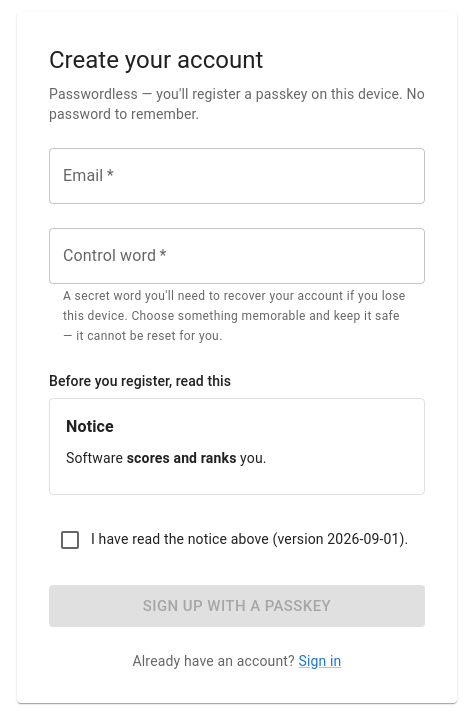
registration shows the transparency notice and will not proceed without it (P1T-183) › keeps signup disabled until the notice is acknowledged
The image size is (475, 722).
In the field labelled "Email *": [237, 176] box 49,148 -> 425,204, type "ada@example.com"
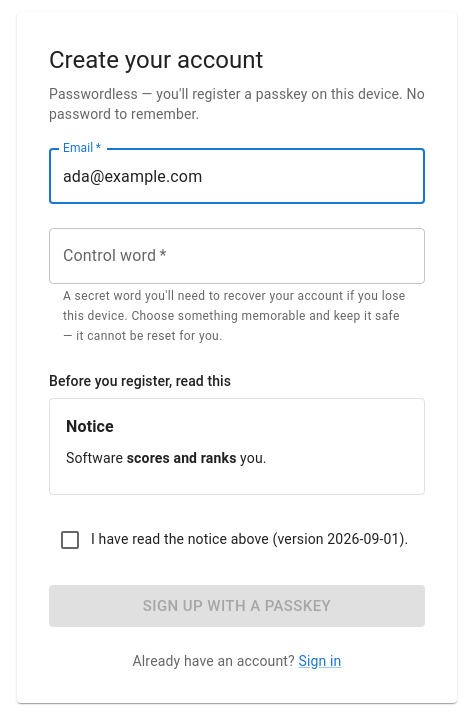
In the field labelled "Control word *": [237, 256] box 49,228 -> 425,284, type "hunter2"
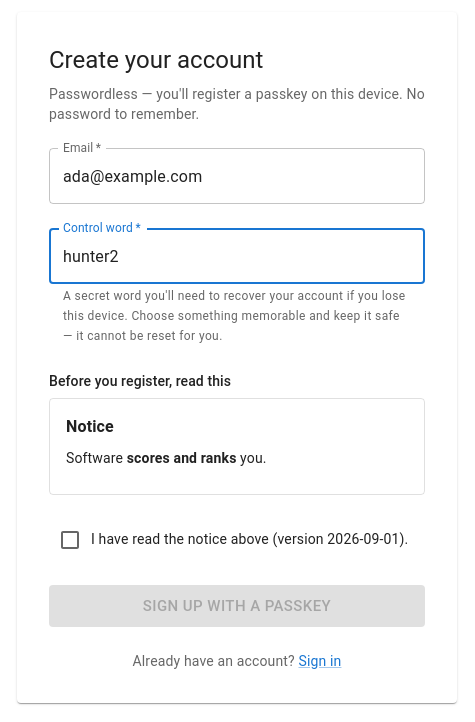
Check: the button "Sign up with a passkey" is disabled, box 49,584 -> 425,627
Click the checkbox labelled "I have read the notice above": [233, 540] box 58,528 -> 408,552
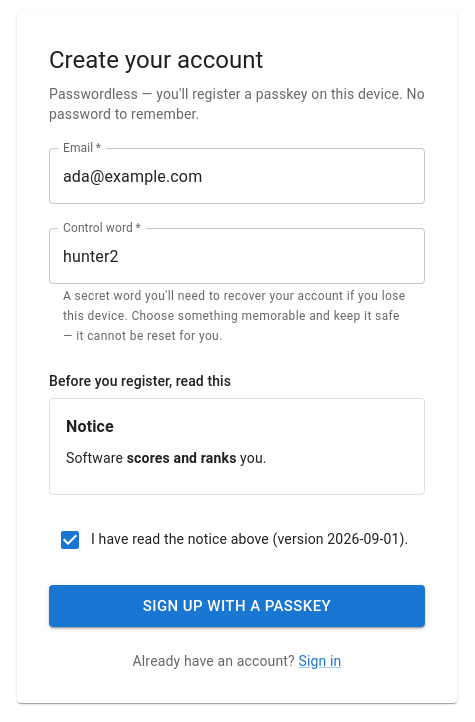
Check: the button "Sign up with a passkey" is enabled, box 49,584 -> 425,627
